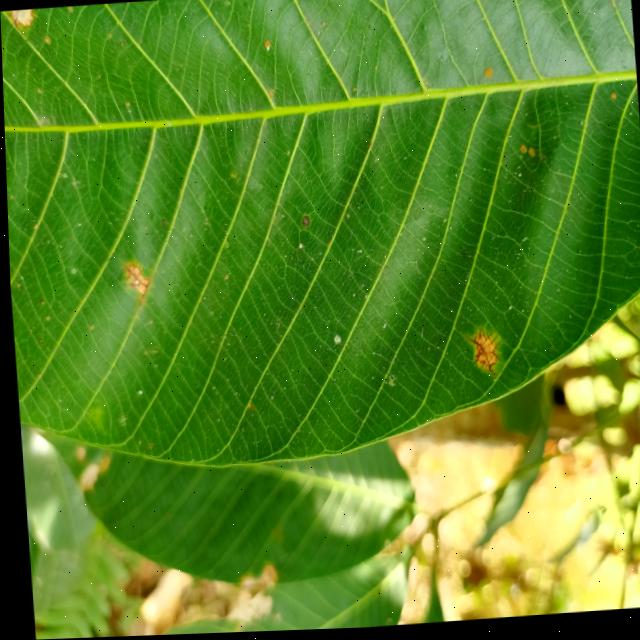Colletotrichum: (299, 219, 307, 229)
Corynespora: (463, 329, 501, 381), (120, 261, 143, 289)
Leaf-Blight: (6, 9, 37, 28)
